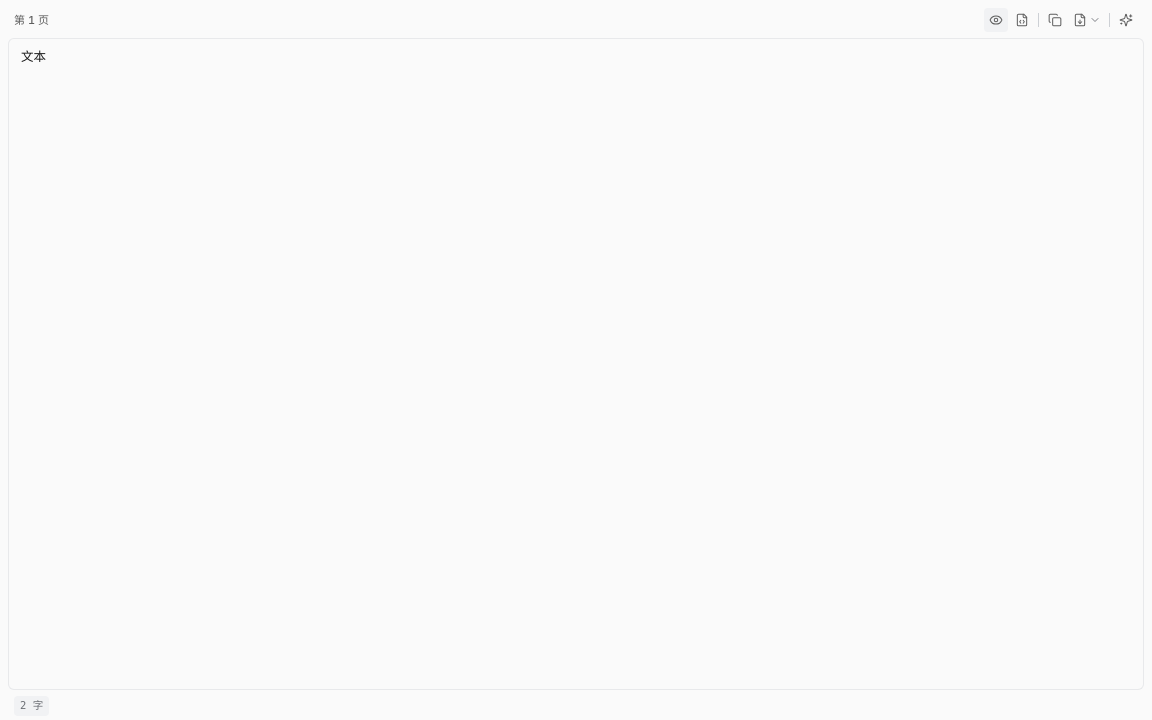
OcrTextPanel toolbar — copy › falls back to an inline message where there is no native dialog
Click the button named "复制本页": (1055, 20) [1043, 8, 1067, 32]
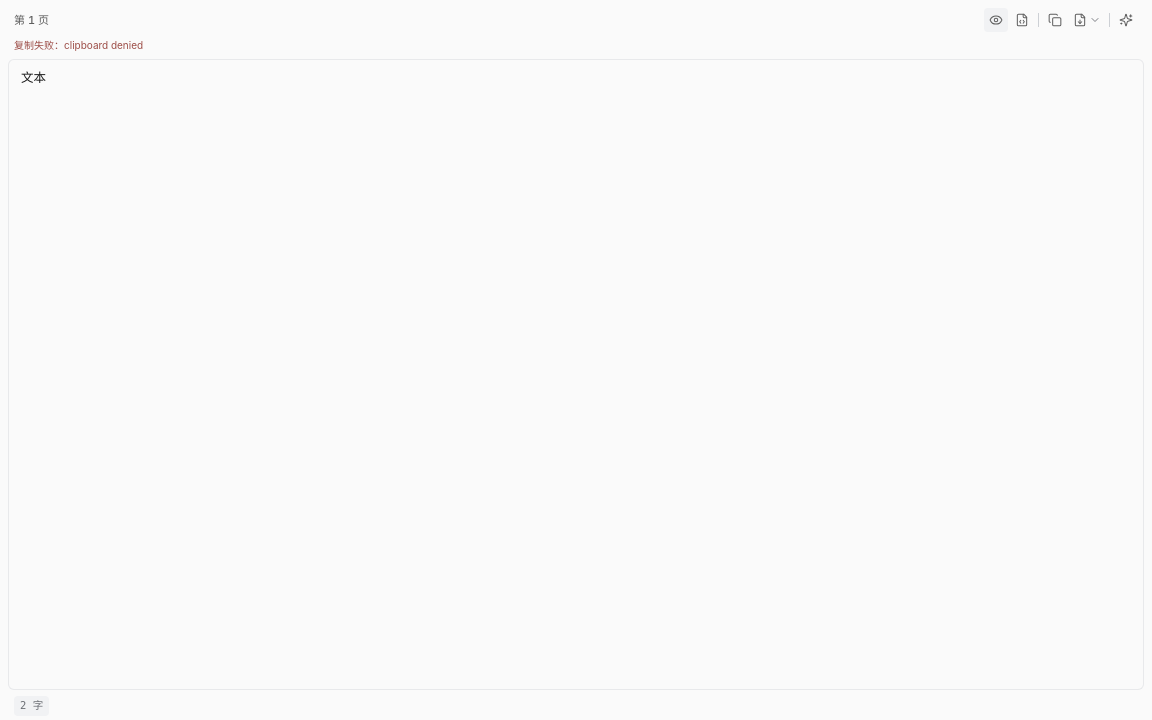
Check: the message reads "复制失败：clipboard denied", box [14, 39, 143, 51]
